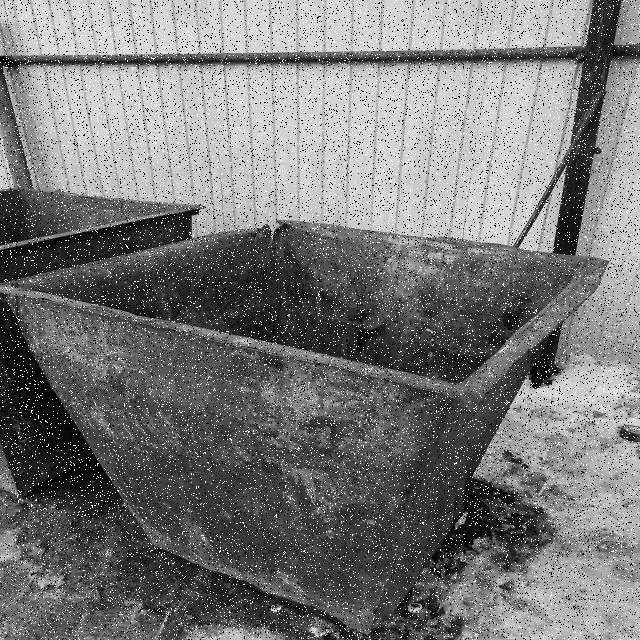Trashcan: (1, 203, 640, 638), (0, 171, 217, 509)
